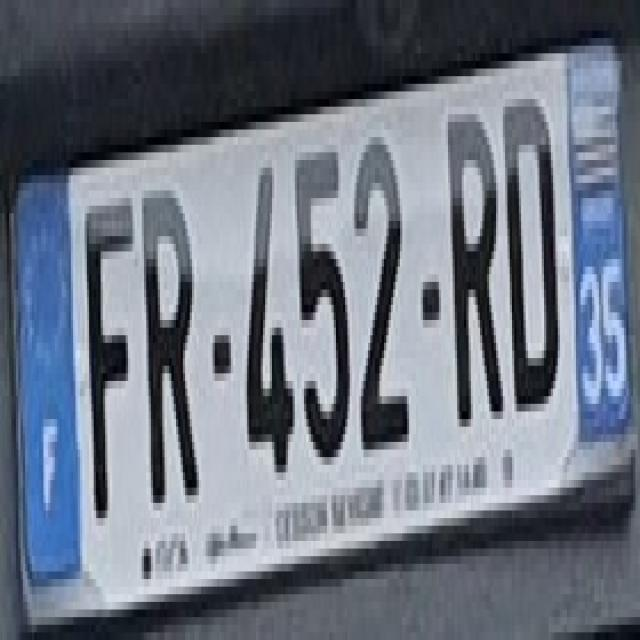EU: (14, 52, 632, 615)
France: (14, 169, 86, 587)
